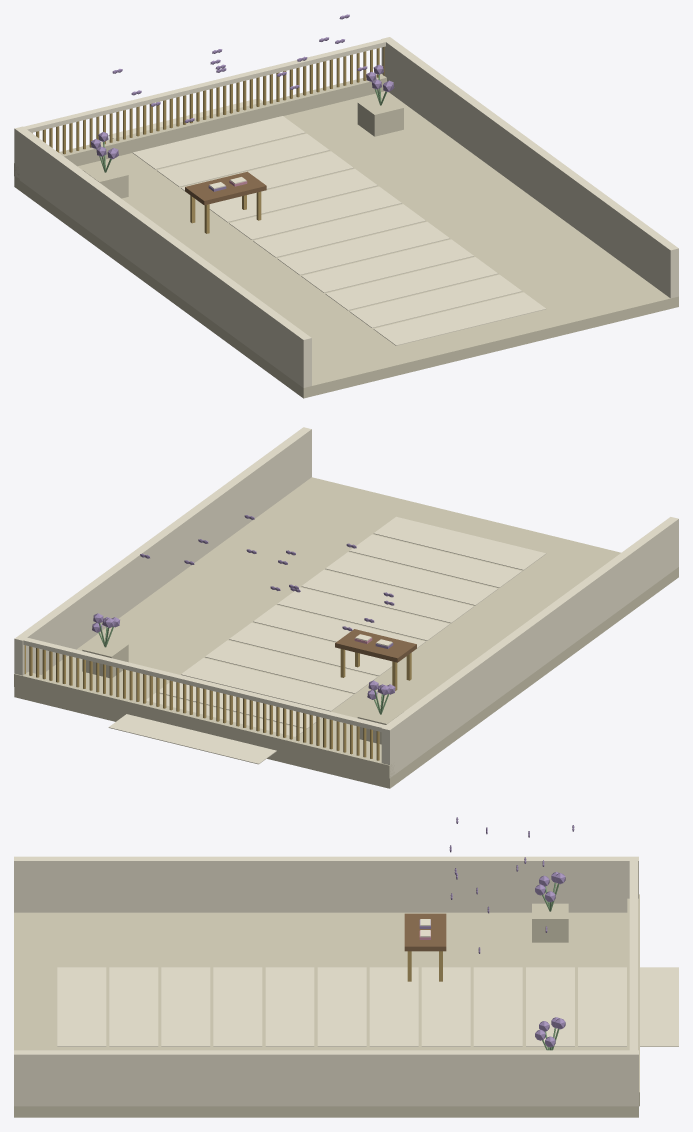
Rendered from terrace.fbx.
3 renders of one model, top to bottom at view 1: azimuth 30°, elevation 25°; view 2: azimuth 150°, elevation 25°; view 3: azimuth 270°, elevation 25°, orthographic. The views are drawn at different scales.
Parts seen in each view (by area): view 1: Outing_ivory, Outing_stone, Outing_gold, Outing_wood, Outing_purple; view 2: Outing_ivory, Outing_stone, Outing_gold, Outing_wood, Outing_purple; view 3: Outing_ivory, Outing_stone, Outing_wood, Outing_purple.
Boxes of the visible parts, left/top/right/bottom form: Outing_ivory: left=14, top=37, right=678, bottom=387; Outing_stone: left=14, top=74, right=678, bottom=398; Outing_gold: left=32, top=47, right=384, bottom=233; Outing_wood: left=185, top=171, right=266, bottom=205; Outing_purple: left=90, top=14, right=394, bottom=191; Outing_ivory: left=14, top=427, right=678, bottom=777; Outing_stone: left=14, top=477, right=678, bottom=788; Outing_gold: left=24, top=645, right=411, bottom=760; Outing_wood: left=335, top=629, right=416, bottom=662; Outing_purple: left=92, top=515, right=395, bottom=699; Outing_ivory: left=14, top=856, right=678, bottom=1106; Outing_stone: left=14, top=894, right=639, bottom=1117; Outing_wood: left=404, top=913, right=446, bottom=951; Outing_purple: left=419, top=817, right=574, bottom=1047.
Size of what is drawn, in the model's own units: 900 by 358 by 1277.
